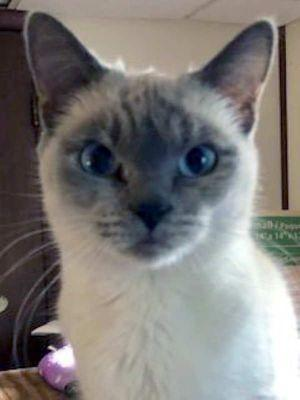siamese: (8, 2, 296, 285)
